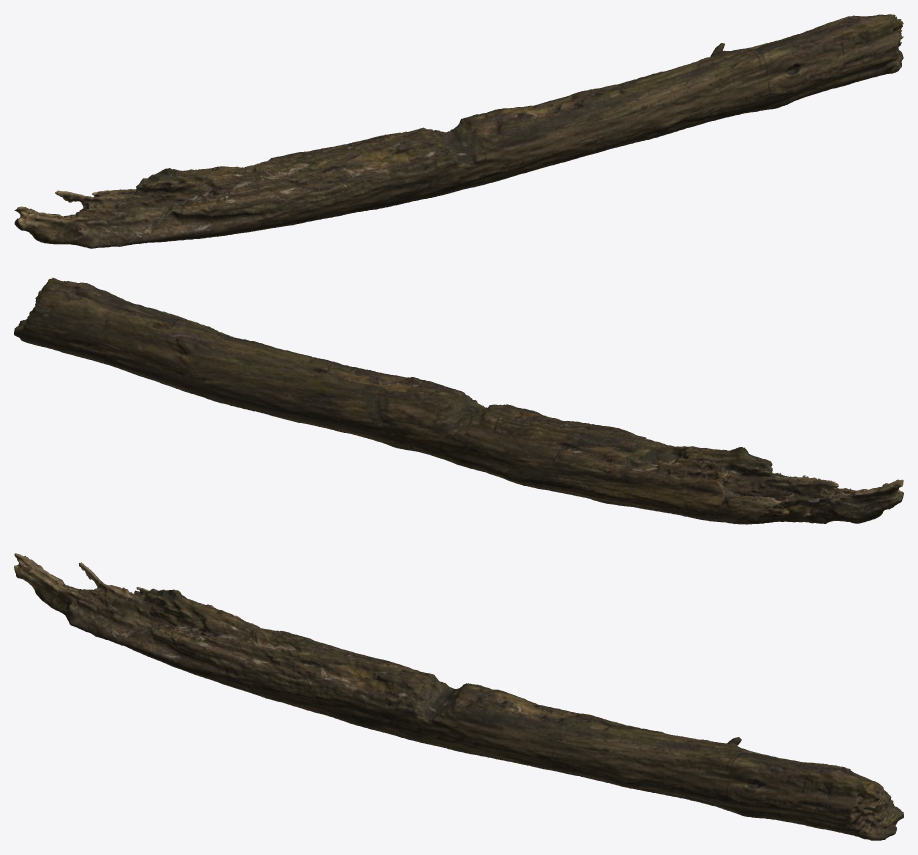
File: dead_tree_trunk.glb
3 views of the same model, one above another, from view 1: azimuth 30°, elevation 25°; view 2: azimuth 150°, elevation 25°; view 3: azimuth 330°, elevation 25° (orthographic).
Parts seen in each view (by area): view 1: dead_tree_trunk; view 2: dead_tree_trunk; view 3: dead_tree_trunk.
Part boxes in pixels (x1=…): dead_tree_trunk: x1=14, y1=14, x2=903, y2=248; dead_tree_trunk: x1=14, y1=277, x2=903, y2=524; dead_tree_trunk: x1=14, y1=553, x2=903, y2=840.
Bounding box in the file's own units: 3.05 × 0.2906 × 0.2772.
Materials: 1 (1 with a texture image).
